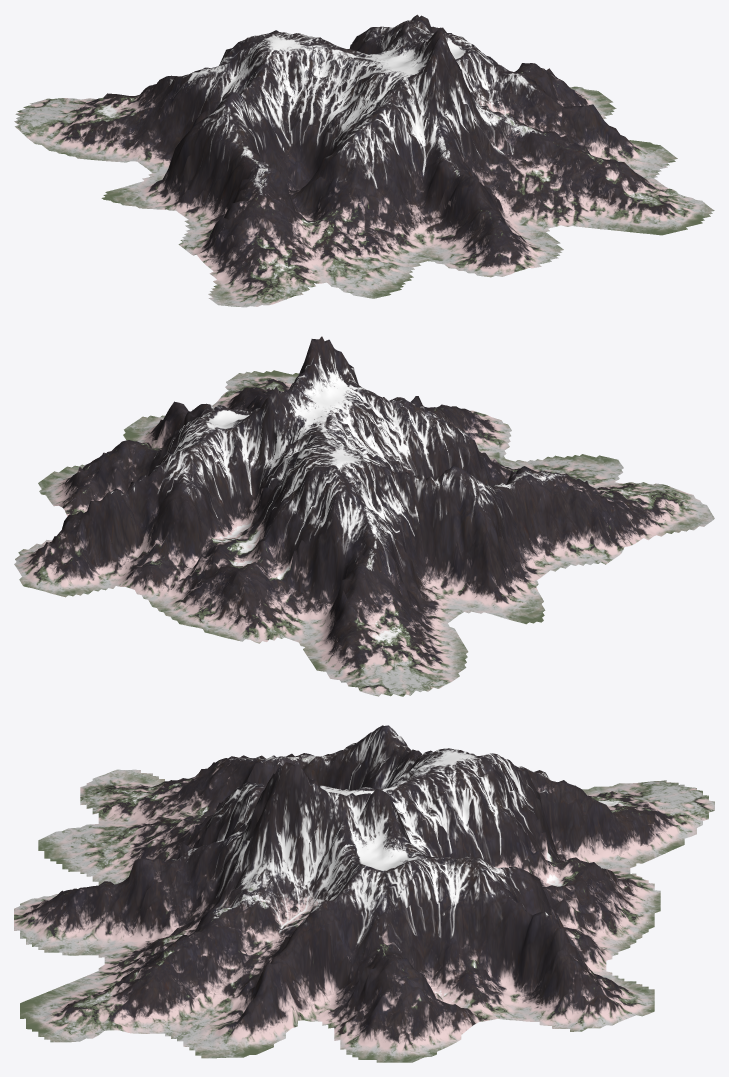
Rendered from alazar_mountain.FBX.
3 renders of one model, top to bottom at view 1: azimuth 30°, elevation 25°; view 2: azimuth 150°, elevation 25°; view 3: azimuth 270°, elevation 25°, orthographic. The views are drawn at different scales.
Parts seen in each view (by area): view 1: alazar_mountain; view 2: alazar_mountain; view 3: alazar_mountain.
Boxes of the visible parts, left/top/right/bottom form: alazar_mountain: left=14, top=14, right=714, bottom=307; alazar_mountain: left=14, top=336, right=714, bottom=696; alazar_mountain: left=14, top=725, right=714, bottom=1062.
Size of the model in its own units: 483 by 488 by 139.
1 material, 1 textured.
